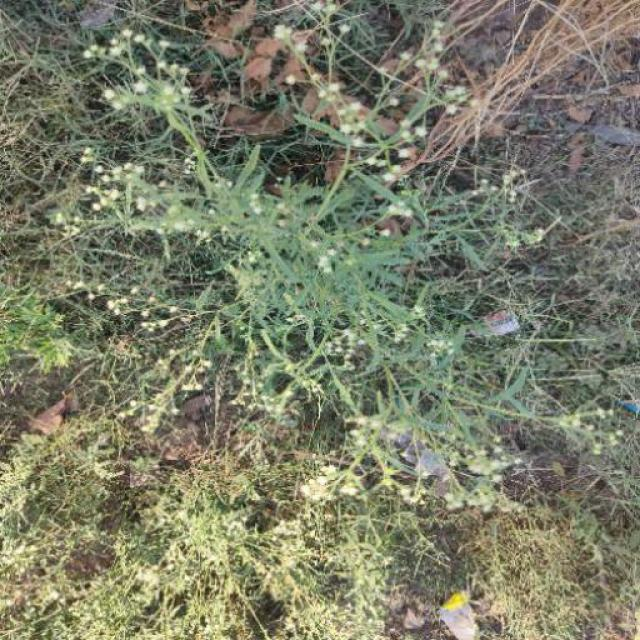weed: (19, 73, 526, 565)
